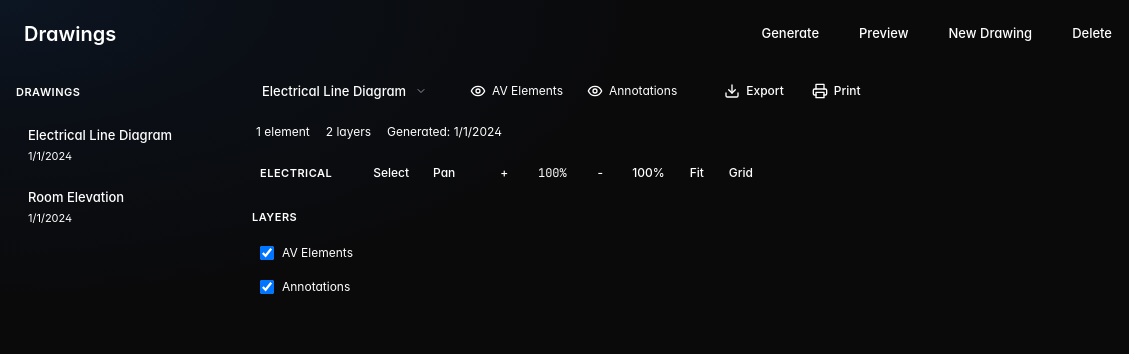
Scenario: DrawingsPage › Export › shows error when export fails
Click the button "Export" at [754, 91], box [712,76,796,106]
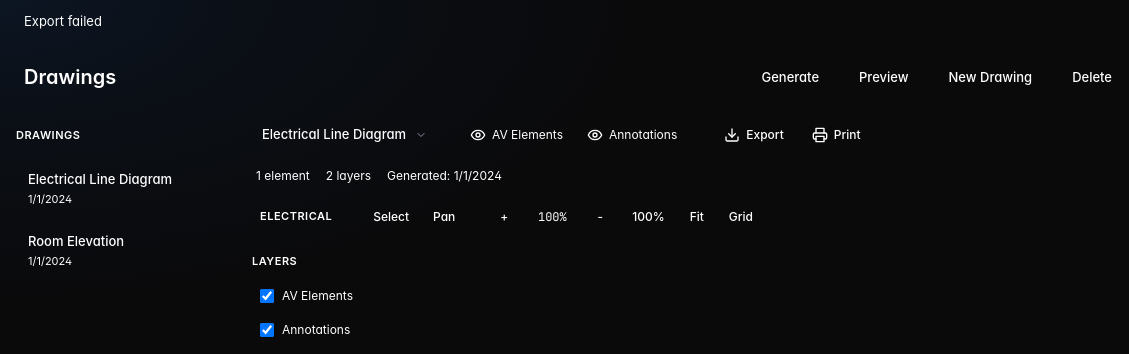
Check: the message reads "Export failed", box [24,13,102,29]
